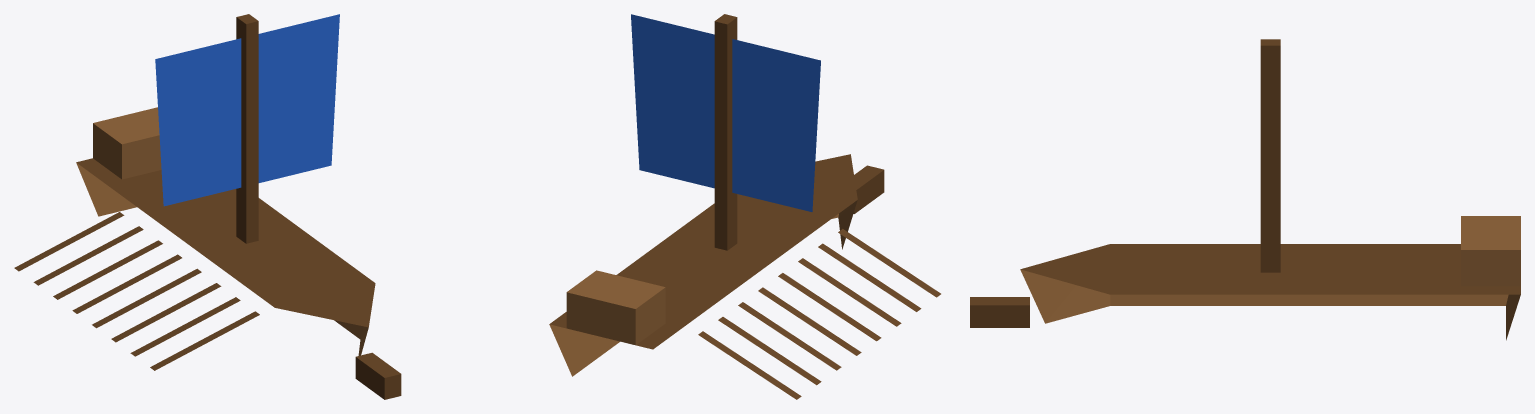
Rendered from trireme.glb.
3 views of the same model, side by side, from view 1: azimuth 30°, elevation 25°; view 2: azimuth 150°, elevation 25°; view 3: azimuth 270°, elevation 25° (orthographic). The views are drawn at different scales.
Visible parts, largest first — view 1: trireme; view 2: trireme; view 3: trireme.
Part boxes in pixels (x1,y1,x2,y2): trireme: (14, 14, 401, 399); trireme: (549, 14, 940, 399); trireme: (970, 39, 1520, 340).
Bounding box in the file's own units: 0.72 × 0.62 × 1.1.
